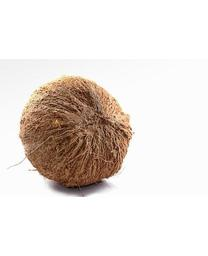coconut: (13, 75, 135, 190)
